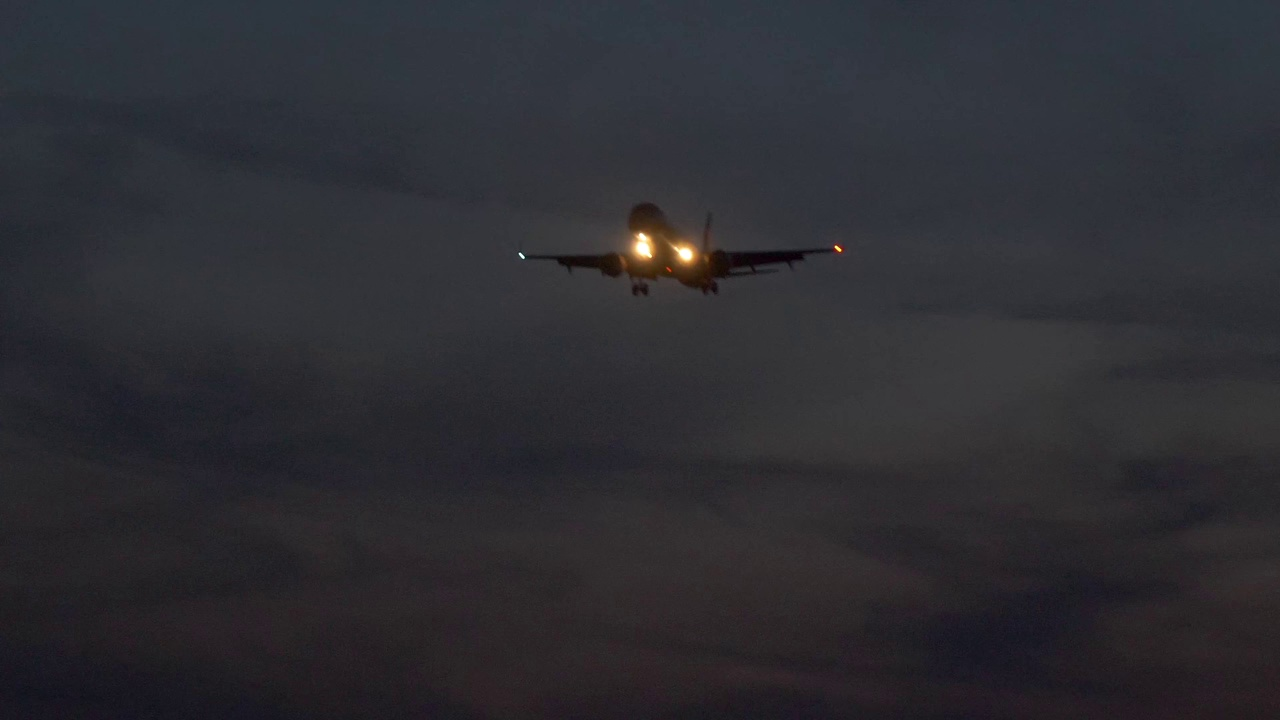plane: (519, 202, 845, 301)
